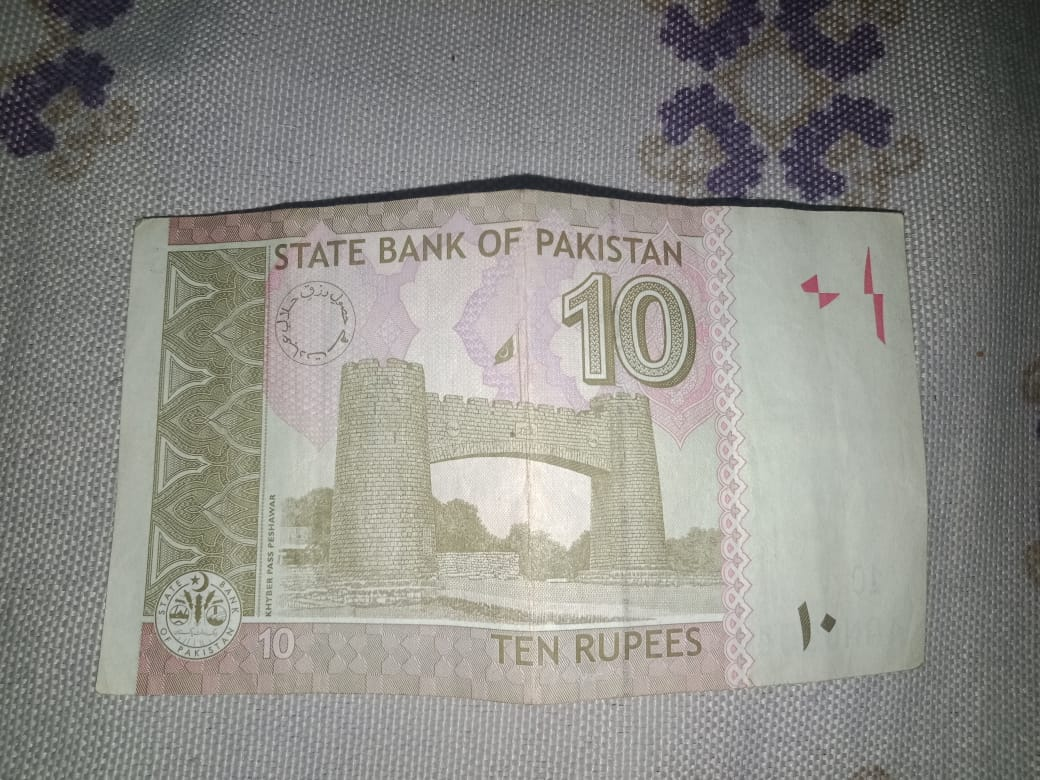10 rupee: (62, 196, 956, 710)
